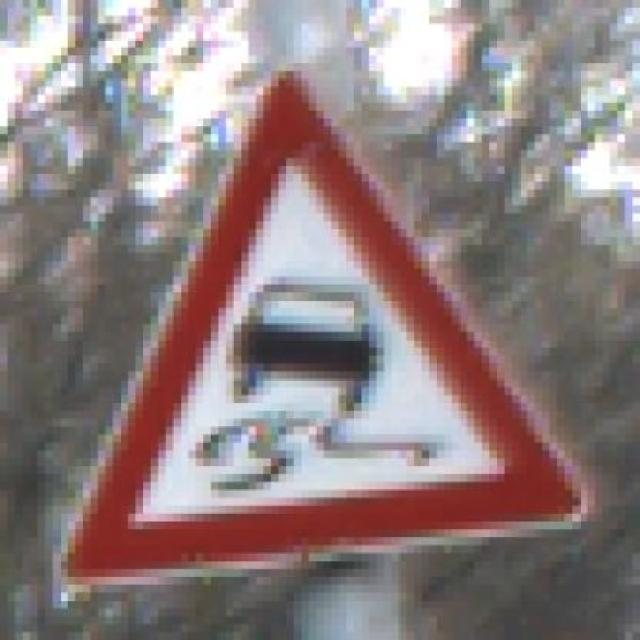Slippery Road Ahead: (38, 63, 618, 585)
